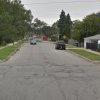Tree: (50, 8, 100, 43)
